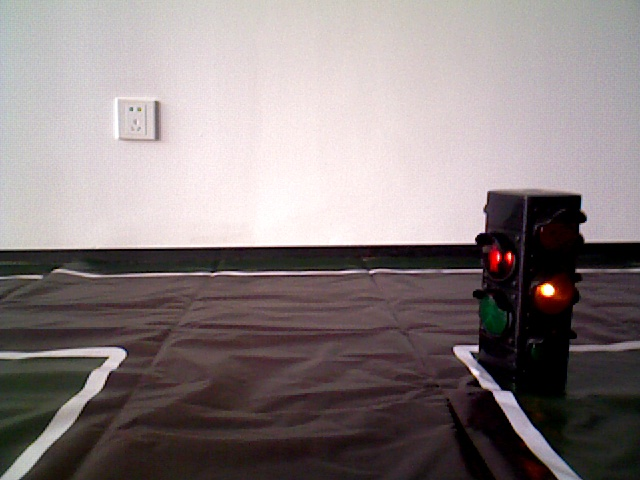yellow: (481, 188, 578, 391)
